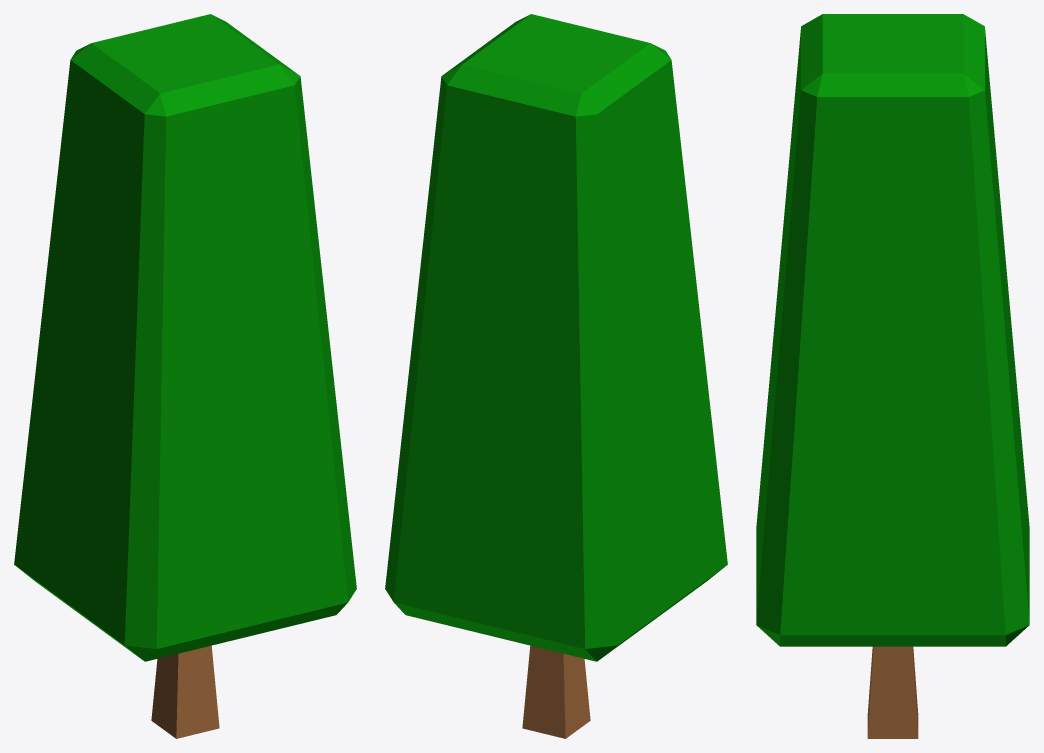
File: variant_4.glb
3 renders of one model, left to right at view 1: azimuth 30°, elevation 25°; view 2: azimuth 150°, elevation 25°; view 3: azimuth 270°, elevation 25°, orthographic. The views are drawn at different scales.
Parts seen in each view (by area): view 1: Cube.006; view 2: Cube.006; view 3: Cube.006.
Boxes of the visible parts, <box> form: Cube.006: <box>14,14,356,738</box>; Cube.006: <box>385,14,727,738</box>; Cube.006: <box>756,14,1029,738</box>.
Bounding box in the file's own units: 0.2228 × 0.615 × 0.2228.
